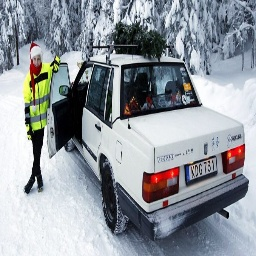sv_licence_plate: (185, 156, 218, 182)
